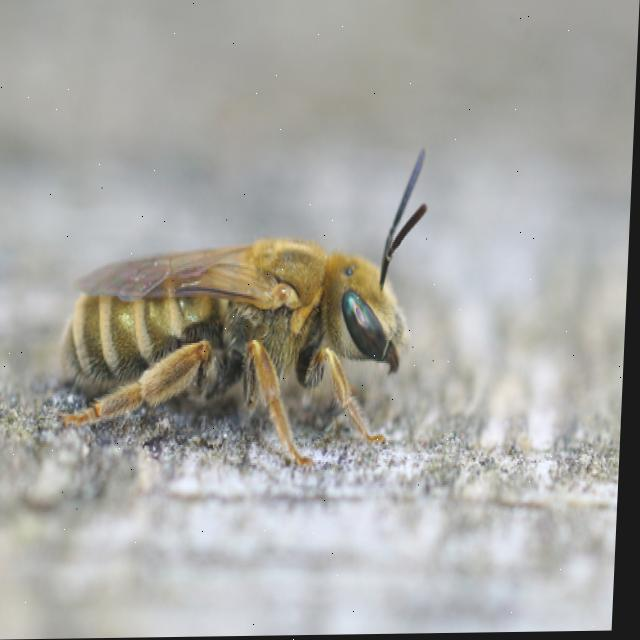Lasioglossum: (52, 167, 463, 514)
